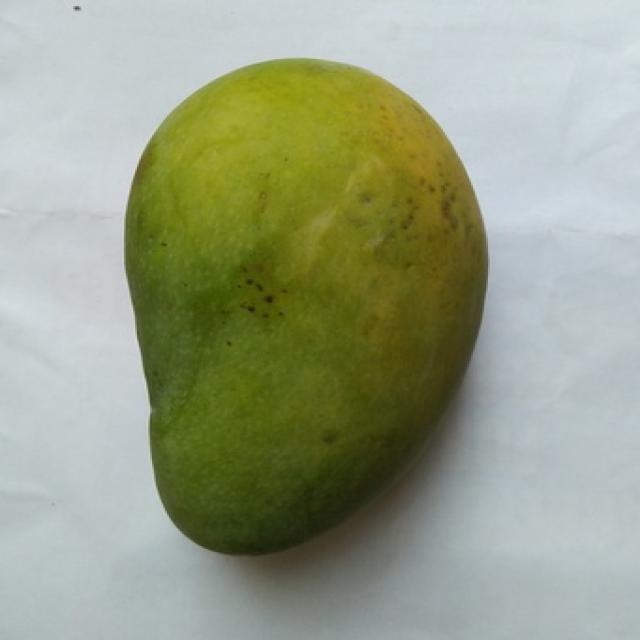Mango: (126, 59, 486, 551)
